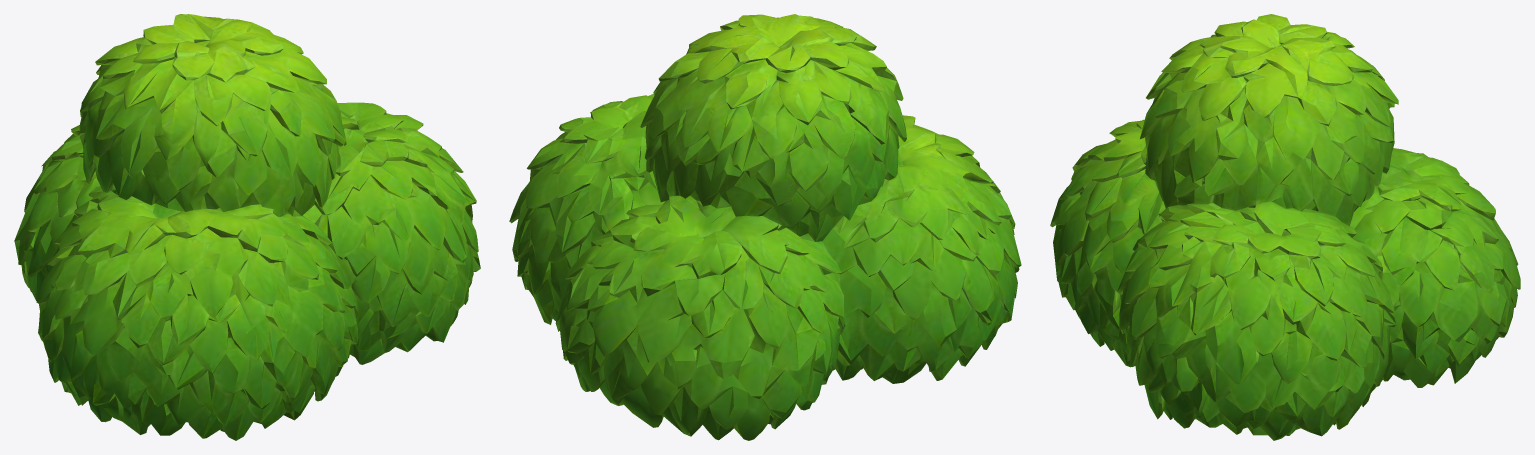
Rendered from neon-leaves-gpu.glb.
The picture shows the model from 3 angles, left to right: view 1: azimuth 30°, elevation 25°; view 2: azimuth 150°, elevation 25°; view 3: azimuth 270°, elevation 25°; orthographic projection. The views are drawn at different scales.
Visible parts, largest first — view 1: output_unwrapped; view 2: output_unwrapped; view 3: output_unwrapped.
Boxes of the visible parts, box(x1,y1,x2,y2) form: output_unwrapped: box(14, 14, 480, 440); output_unwrapped: box(509, 14, 1021, 440); output_unwrapped: box(1050, 14, 1520, 440).
Bounding box in the file's own units: 1.9 × 1.52 × 1.85.
1 material, 1 textured.
